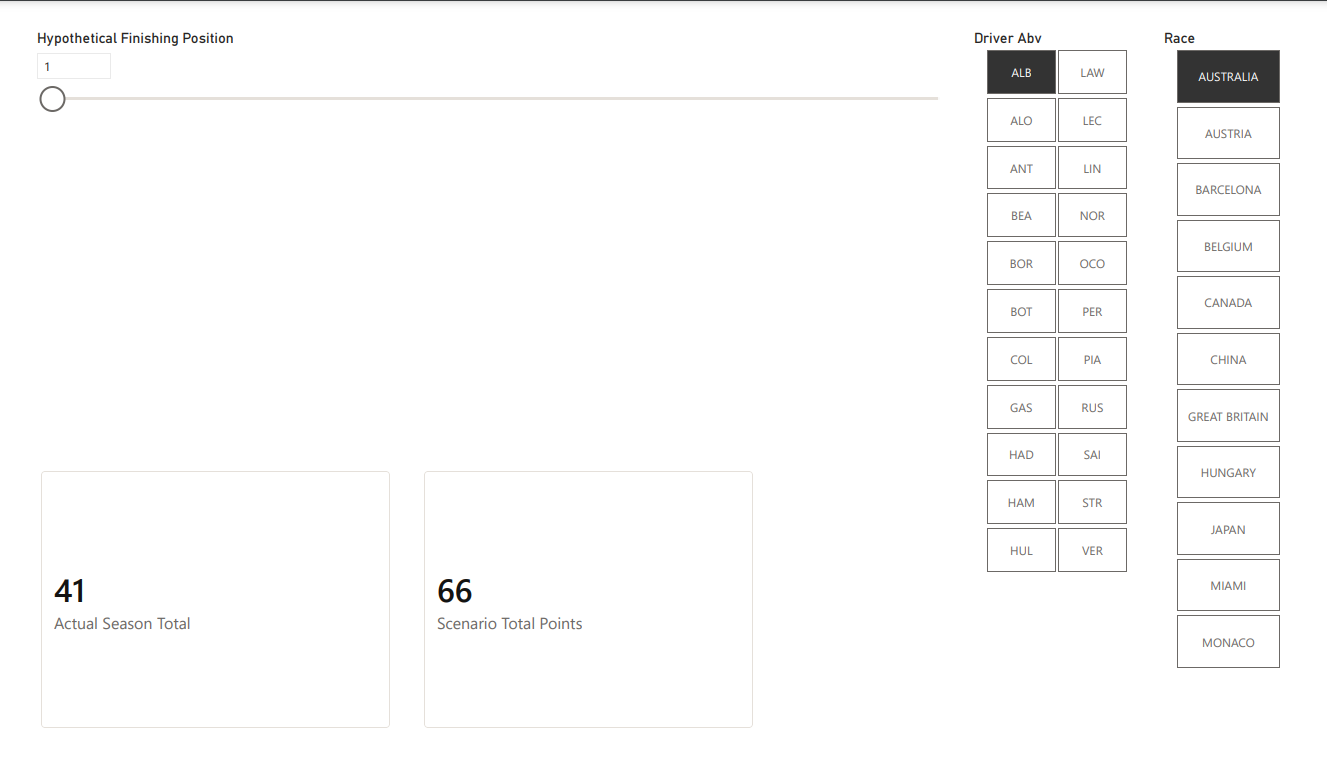

The page's visual inventory and layout, read from the dashboard file:
{"tool":"powerbi","page":{"name":"Scenario Tool","canvas":[1280,720],"ordinal":2},"visuals":[{"type":"slicer","fields":{"Values":["Hypothetical Finishing Position.Hypothetical Finishing Position"]},"box":[0,0,937.1,360],"z":0},{"type":"slicer","fields":{"Values":["Race Resuts.Driver Abv"]},"box":[937.1,0,190,554.3],"z":1000},{"type":"slicer","fields":{"Values":["Race Resuts.Race"]},"box":[1127.1,0,152.9,650],"z":2000},{"type":"cardVisual","fields":{"Data":["Race Resuts.Actual Season Total"]},"box":[0,428.6,382.9,291.4],"z":3000},{"type":"cardVisual","fields":{"Data":["Race Resuts.Scenario Total Points"]},"box":[382.9,428.6,362.9,291.4],"z":4000}]}

Visuals, with their boxes in screenshot pixels (x1, y1, x2, y2), scaled from the page's 1280x720 canvas onto the 1327x769 screenshot:
slicer - Hypothetical Finishing Position.Hypothetical Finishing Position: detection(0, 0, 972, 384)
slicer - Race Resuts.Driver Abv: detection(972, 0, 1168, 592)
slicer - Race Resuts.Race: detection(1168, 0, 1326, 694)
cardVisual - Race Resuts.Actual Season Total: detection(0, 458, 397, 768)
cardVisual - Race Resuts.Scenario Total Points: detection(397, 458, 773, 768)
